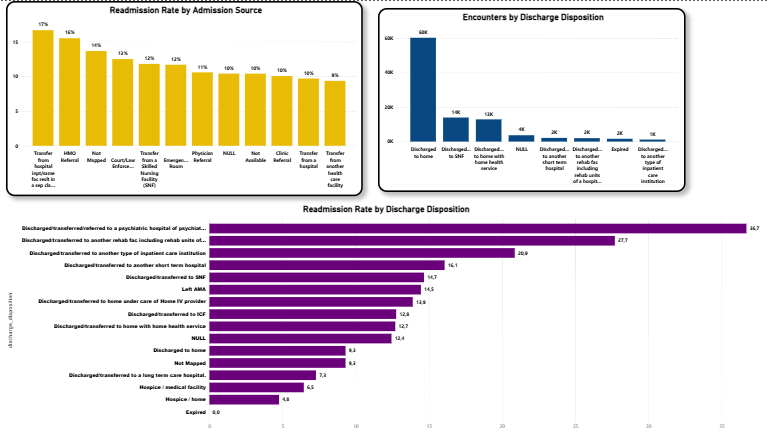

Layout of this report page (visuals, bound fields, positions):
{"tool":"powerbi","page":{"name":"Encounter Risk Factors","canvas":[1920,1080],"ordinal":1},"visuals":[{"type":"clusteredColumnChart","title":"Readmission Rate by Admission Source","fields":{"Y":["Avg(public vw_readmission_by_admission_source.readmission_30_day_rate)"],"Category":["public vw_readmission_by_admission_source.admission_source"]},"box":[14,0,892,488],"z":0},{"type":"barChart","title":"Readmission Rate by Discharge Disposition","fields":{"Category":["public vw_readmission_by_discharge_disposition.discharge_disposition"],"Y":["Avg(public vw_readmission_by_discharge_disposition.readmission_30_day_rate)"]},"box":[13.3,506.7,1906.7,573.3],"z":1},{"type":"clusteredColumnChart","title":"Encounters by Discharge Disposition","fields":{"Category":["public vw_readmission_by_discharge_disposition.discharge_disposition"],"Y":["Sum(public vw_readmission_by_discharge_disposition.encounters)"]},"box":[944.3,18.6,768.6,460],"z":2}]}

Visuals, with their boxes in screenshot pixels (x1, y1, x2, y2), scaled from the page's 1920x1080 canvas onto the 768x433 screenshot:
"Readmission Rate by Admission Source" clusteredColumnChart: Rect(6, 0, 362, 196)
"Readmission Rate by Discharge Disposition" barChart: Rect(5, 203, 767, 432)
"Encounters by Discharge Disposition" clusteredColumnChart: Rect(378, 7, 685, 192)
